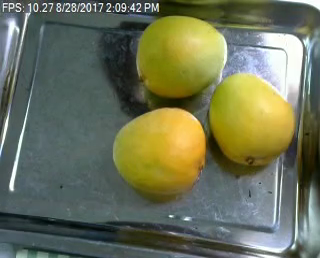Mango: (110, 108, 205, 195), (208, 74, 295, 166), (137, 16, 229, 100)
